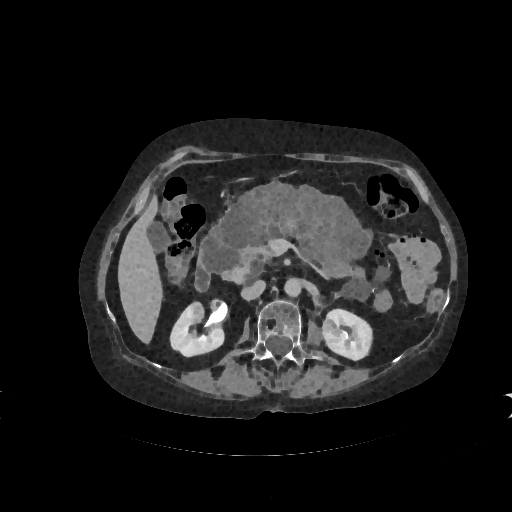Lesion: (321, 318, 340, 335)
